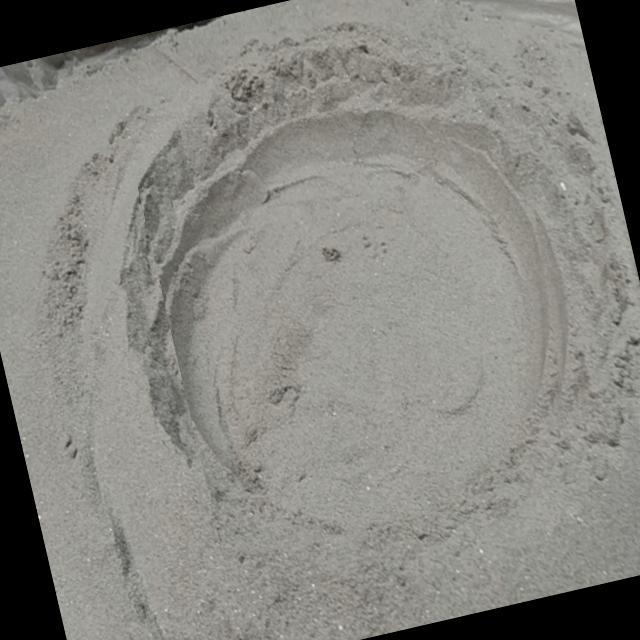C40: (160, 106, 555, 530)
